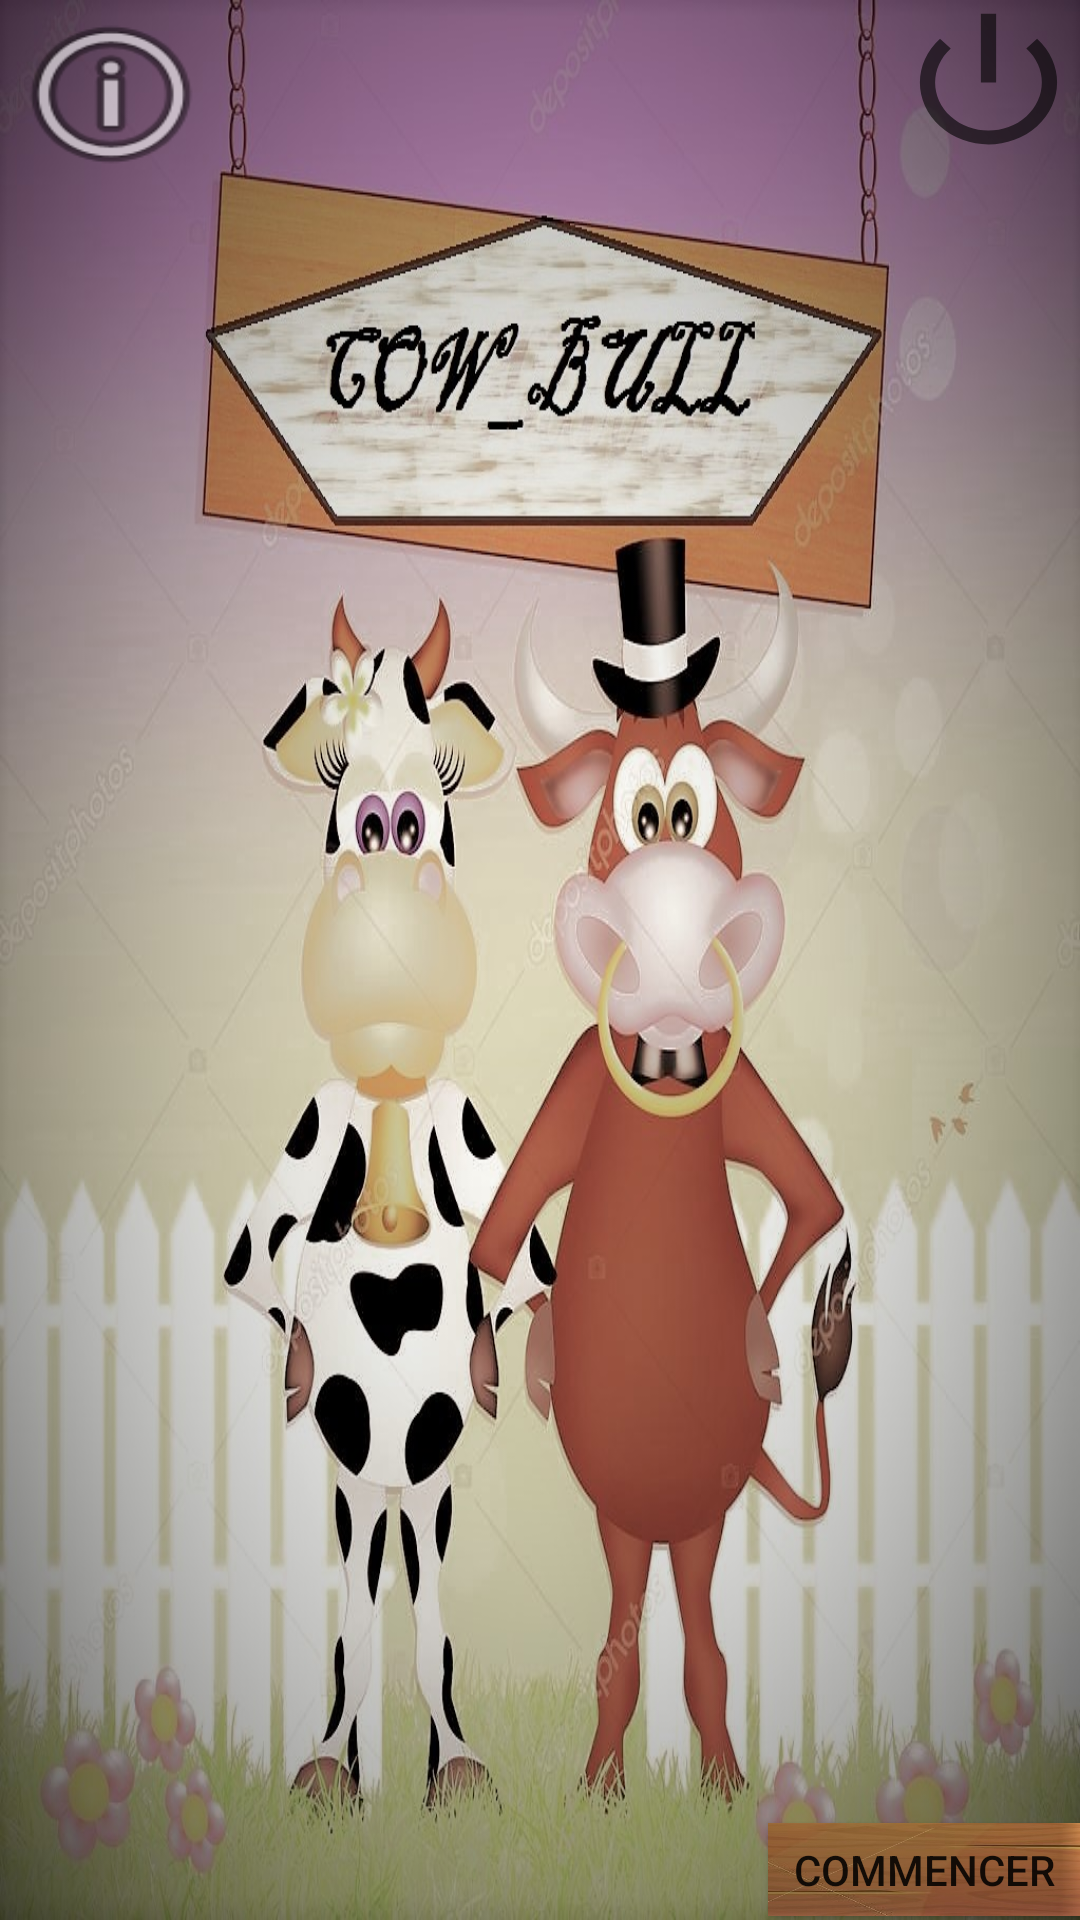

Point at icon controls on the screen. Image size 1080px×1920px, points as [x,y].
info details: [111,94]
lock power off: [988,82]
